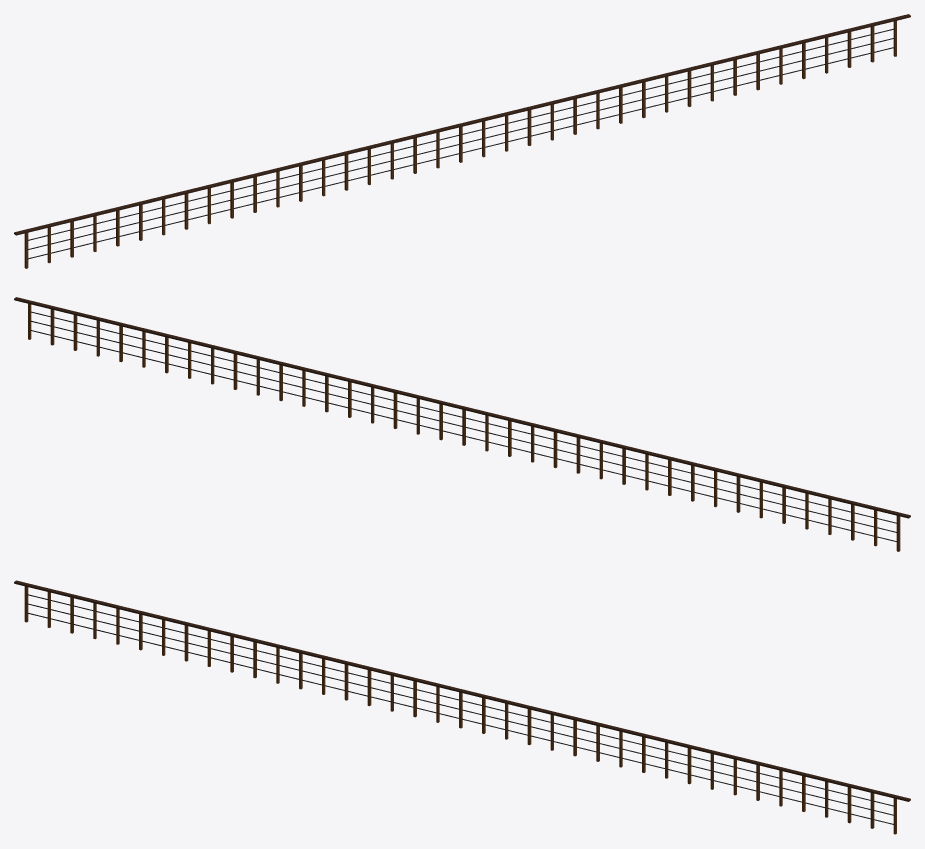
Rendered from new_corrimao.fbx.
3 renders of one model, top to bottom at view 1: azimuth 30°, elevation 25°; view 2: azimuth 150°, elevation 25°; view 3: azimuth 330°, elevation 25°, orthographic.
Visible parts, largest first — view 1: Cylinder.039; view 2: Cylinder.039; view 3: Cylinder.039.
Part boxes in pixels (x1=…): Cylinder.039: x1=14, y1=14, x2=910, y2=268; Cylinder.039: x1=14, y1=297, x2=910, y2=551; Cylinder.039: x1=14, y1=580, x2=910, y2=834.
Size of the model in its own units: 2096 by 85.49 by 9.29.
